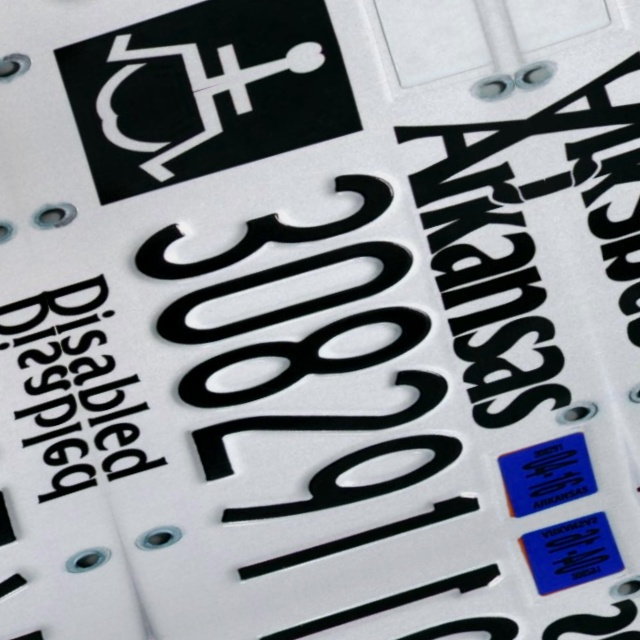ISA: (91, 47, 361, 202), (67, 0, 336, 123)
